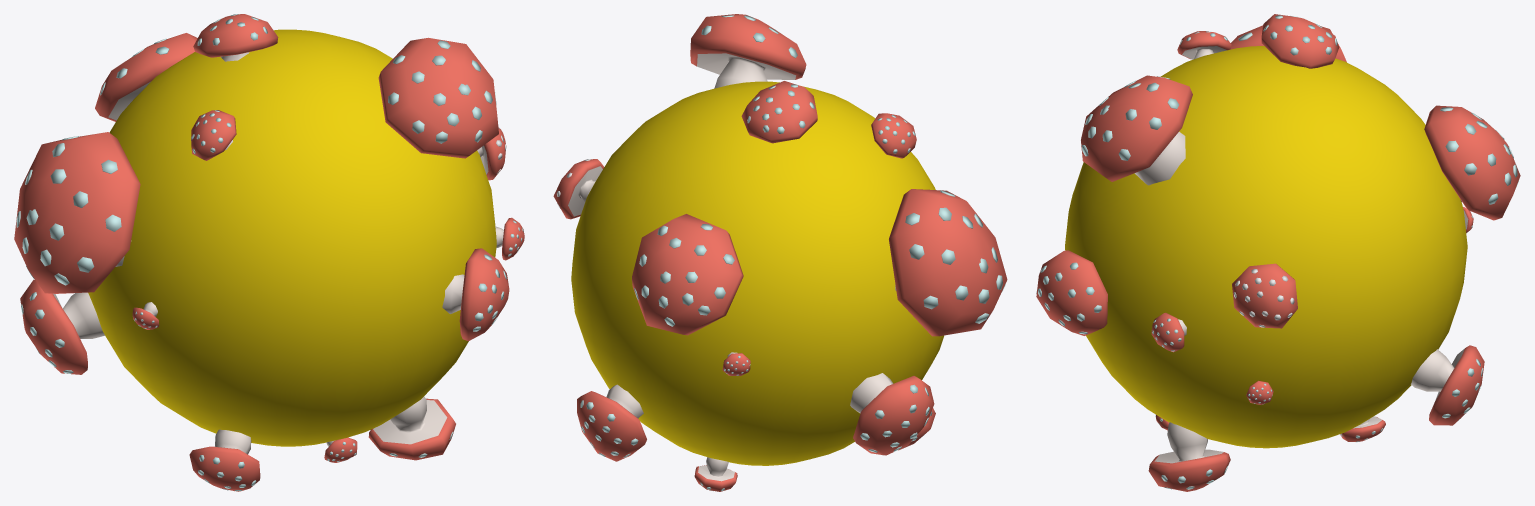
The model's file is happy_planet_01.fbx.
3 views of the same model, side by side, from view 1: azimuth 30°, elevation 25°; view 2: azimuth 150°, elevation 25°; view 3: azimuth 270°, elevation 25° (orthographic). The views are drawn at different scales.
Visible parts, largest first — view 1: planet happy, Mushroom.022, Mushroom.020, Mushroom.029, Mushroom.031, Mushroom.024, Mushroom.002, Mushroom.032, Mushroom.021, glow mushroom 022, Mushroom.023, glow mushroom 020 (+3 smaller); view 2: planet happy, Mushroom.022, Mushroom.002, Mushroom.020, Mushroom.029, Mushroom.027, Mushroom.021, Mushroom.019, glow mushroom 022, Mushroom.023, glow mushroom 002, Mushroom.030 (+3 smaller); view 3: planet happy, Mushroom.020, Mushroom.002, Mushroom.024, Mushroom.027, Mushroom.031, Mushroom.019, Mushroom.021, Mushroom.023, glow mushroom 020, Mushroom.025, glow mushroom 002 (+3 smaller).
Part boxes in pixels (x1=…): planet happy: x1=88, y1=29, x2=496, y2=446; Mushroom.022: x1=14, y1=132, x2=140, y2=293; Mushroom.020: x1=378, y1=37, x2=498, y2=158; Mushroom.029: x1=20, y1=279, x2=104, y2=374; Mushroom.031: x1=368, y1=396, x2=455, y2=460; Mushroom.024: x1=442, y1=248, x2=509, y2=341; Mushroom.002: x1=95, y1=33, x2=197, y2=121; Mushroom.032: x1=189, y1=429, x2=260, y2=491; Mushroom.021: x1=193, y1=14, x2=278, y2=61; glow mushroom 022: x1=16, y1=136, x2=121, y2=285; Mushroom.023: x1=191, y1=110, x2=236, y2=160; glow mushroom 020: x1=388, y1=40, x2=496, y2=143; planet happy: x1=571, y1=81, x2=943, y2=465; Mushroom.022: x1=889, y1=189, x2=1007, y2=336; Mushroom.002: x1=632, y1=214, x2=743, y2=335; Mushroom.020: x1=690, y1=14, x2=806, y2=88; Mushroom.029: x1=850, y1=373, x2=934, y2=455; Mushroom.027: x1=577, y1=384, x2=646, y2=461; Mushroom.021: x1=741, y1=81, x2=817, y2=143; Mushroom.019: x1=553, y1=159, x2=604, y2=219; glow mushroom 022: x1=905, y1=190, x2=1005, y2=323; Mushroom.023: x1=871, y1=113, x2=916, y2=158; glow mushroom 002: x1=634, y1=224, x2=734, y2=326; Mushroom.030: x1=694, y1=457, x2=737, y2=491; planet happy: x1=1065, y1=46, x2=1467, y2=448; Mushroom.020: x1=1081, y1=75, x2=1192, y2=185; Mushroom.002: x1=1424, y1=105, x2=1520, y2=220; Mushroom.024: x1=1036, y1=250, x2=1107, y2=335; Mushroom.027: x1=1411, y1=345, x2=1484, y2=425; Mushroom.031: x1=1148, y1=422, x2=1230, y2=491; Mushroom.019: x1=1232, y1=263, x2=1297, y2=328; Mushroom.021: x1=1261, y1=14, x2=1339, y2=68; Mushroom.023: x1=1177, y1=31, x2=1231, y2=59; glow mushroom 020: x1=1081, y1=76, x2=1179, y2=160; Mushroom.025: x1=1151, y1=312, x2=1186, y2=352; glow mushroom 002: x1=1440, y1=107, x2=1518, y2=204.
Bounding box in the file's own units: 1143 × 988 × 1053.
